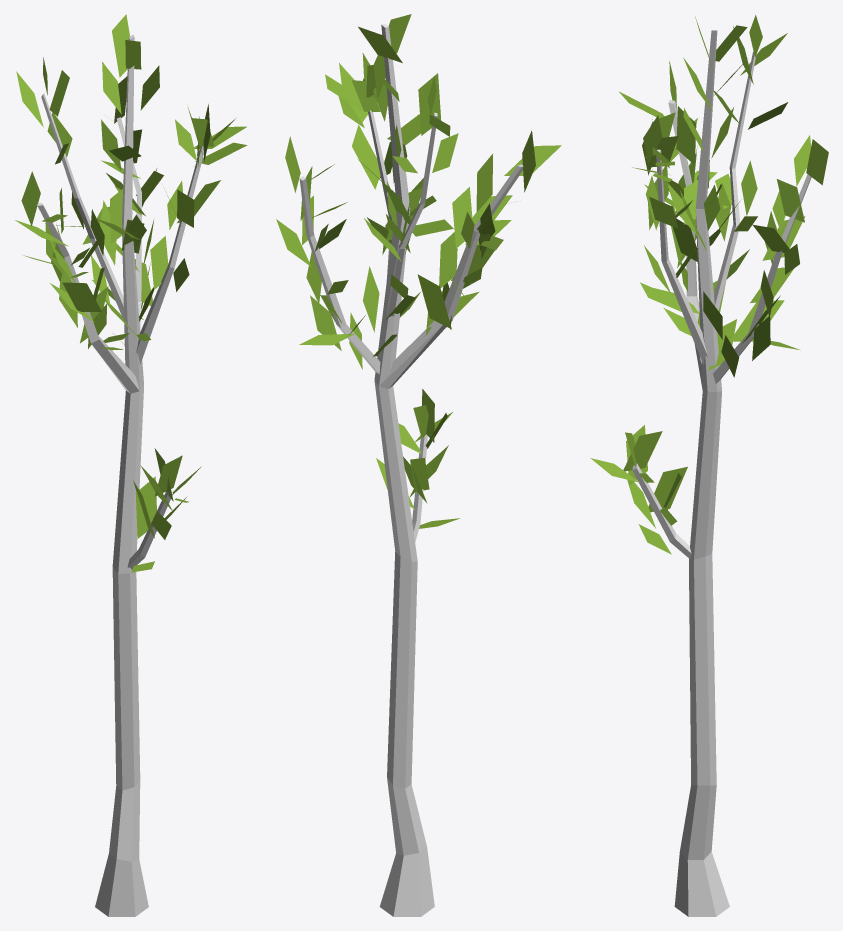
The model's file is SM_Tree_Willow_Weeping_Sapling_A.fbx.
The picture shows the model from 3 angles, left to right: view 1: azimuth 30°, elevation 25°; view 2: azimuth 150°, elevation 25°; view 3: azimuth 270°, elevation 25°; orthographic projection. The views are drawn at different scales.
Parts seen in each view (by area): view 1: tree-willow-weeping-sapling-a; view 2: tree-willow-weeping-sapling-a; view 3: tree-willow-weeping-sapling-a.
Part boxes in pixels (x1,y1,x2,y2): tree-willow-weeping-sapling-a: [15, 14, 247, 916]; tree-willow-weeping-sapling-a: [276, 14, 561, 916]; tree-willow-weeping-sapling-a: [590, 15, 828, 916].
Bounding box in the file's own units: 0.5077 × 1.95 × 0.4733.
